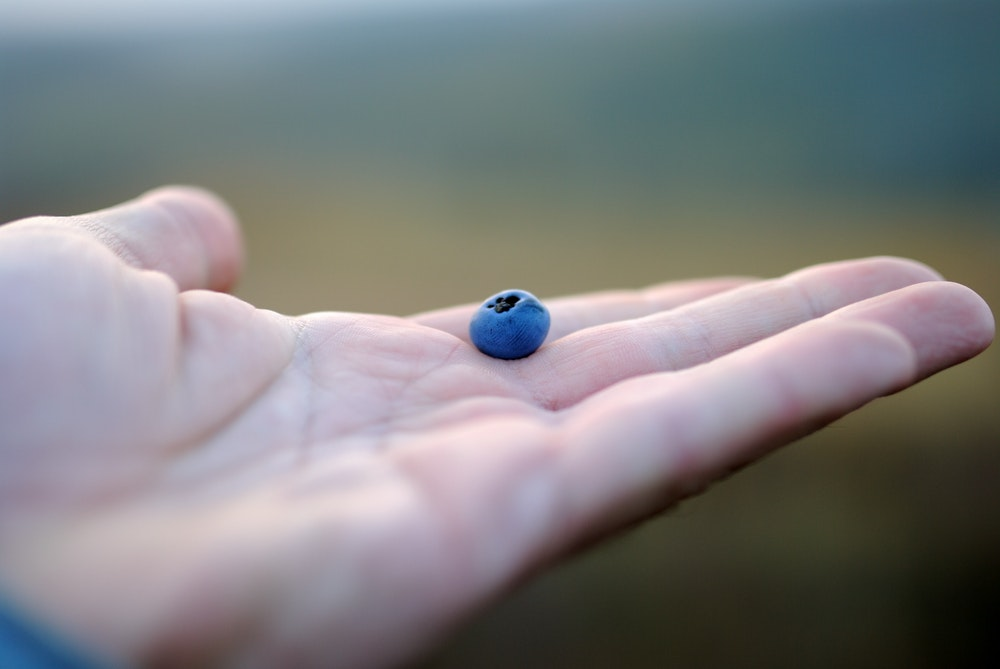palm: (29, 228, 567, 587)
